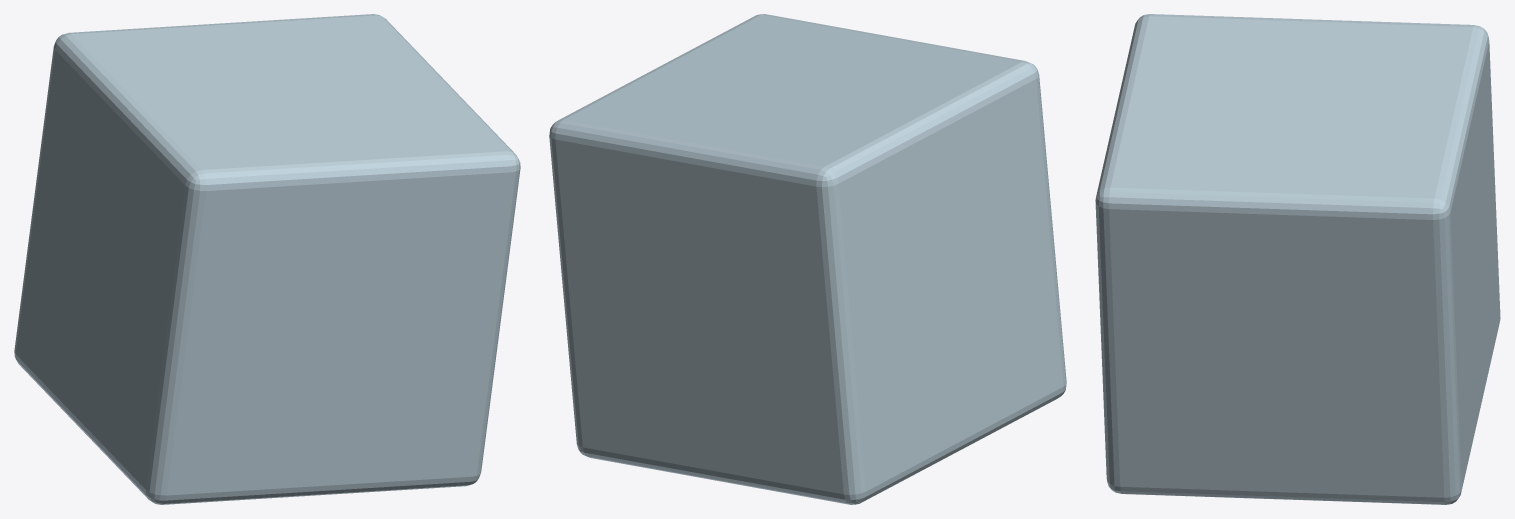
Rendered from glass_cubes_design_zeros_and_ones.glb.
The picture shows the model from 3 angles, left to right: view 1: azimuth 30°, elevation 25°; view 2: azimuth 150°, elevation 25°; view 3: azimuth 270°, elevation 25°; orthographic projection. The views are drawn at different scales.
Visible parts, largest first — view 1: GlassCube_Binary; view 2: GlassCube_Binary; view 3: GlassCube_Binary.
Boxes of the visible parts, x1,y1,x2,y2 form: GlassCube_Binary: (14,14,520,504); GlassCube_Binary: (549,14,1066,504); GlassCube_Binary: (1095,14,1500,504).
Size of the model in its own units: 2.89 by 2.69 by 2.72.
